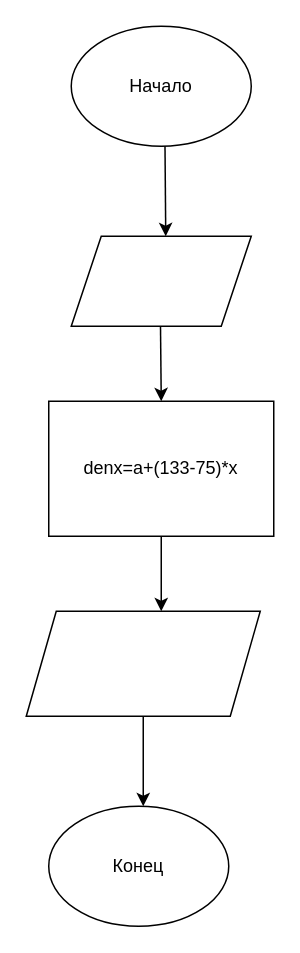
This 300x953 diagram has some shape labels left out. Each missing label, with the centre of its shape:
denx: the point at 142,663
x,a: the point at 160,280
